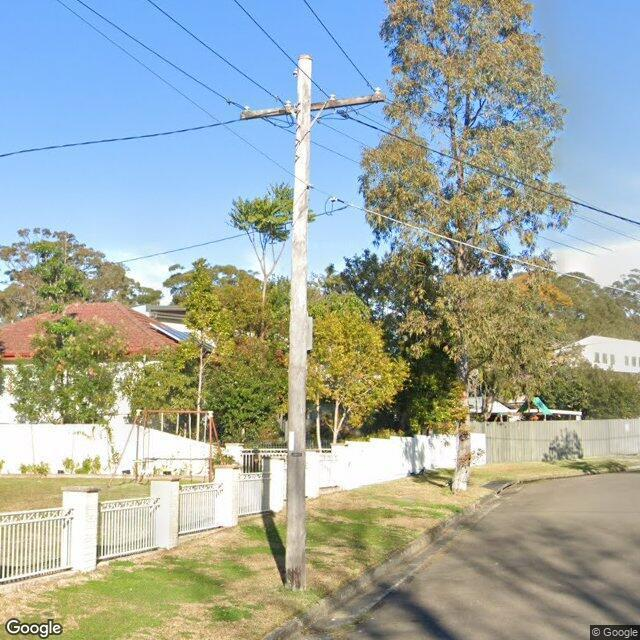crossarm: (240, 85, 387, 120)
timber-pole: (284, 54, 315, 590)
